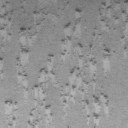oxide scale of temperature system: (27, 27, 110, 128), (16, 10, 61, 98), (60, 8, 82, 62), (98, 0, 118, 32), (0, 2, 14, 42), (2, 100, 18, 128), (101, 44, 112, 72), (120, 10, 128, 38), (112, 16, 120, 22), (0, 57, 2, 69)
